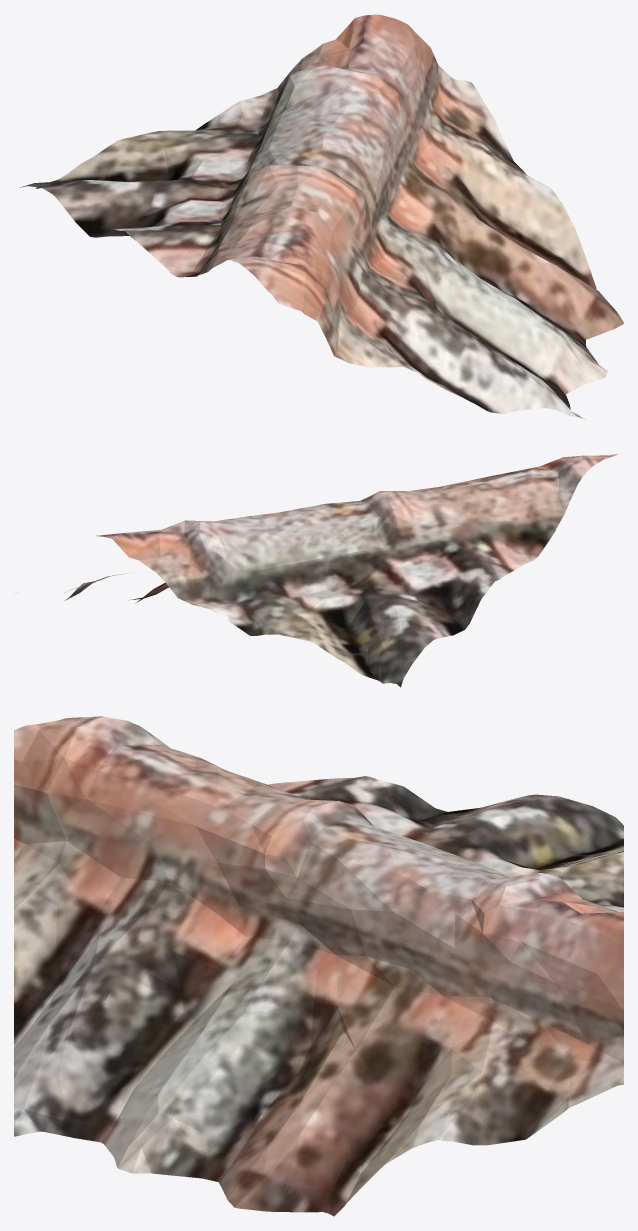
The picture shows the model from 3 angles, top to bottom: view 1: azimuth 30°, elevation 25°; view 2: azimuth 150°, elevation 25°; view 3: azimuth 270°, elevation 25°; orthographic projection. The views are drawn at different scales.
Size of the model in its own units: 0.8373 by 0.3714 by 0.8374.
3 materials, 3 textured.
